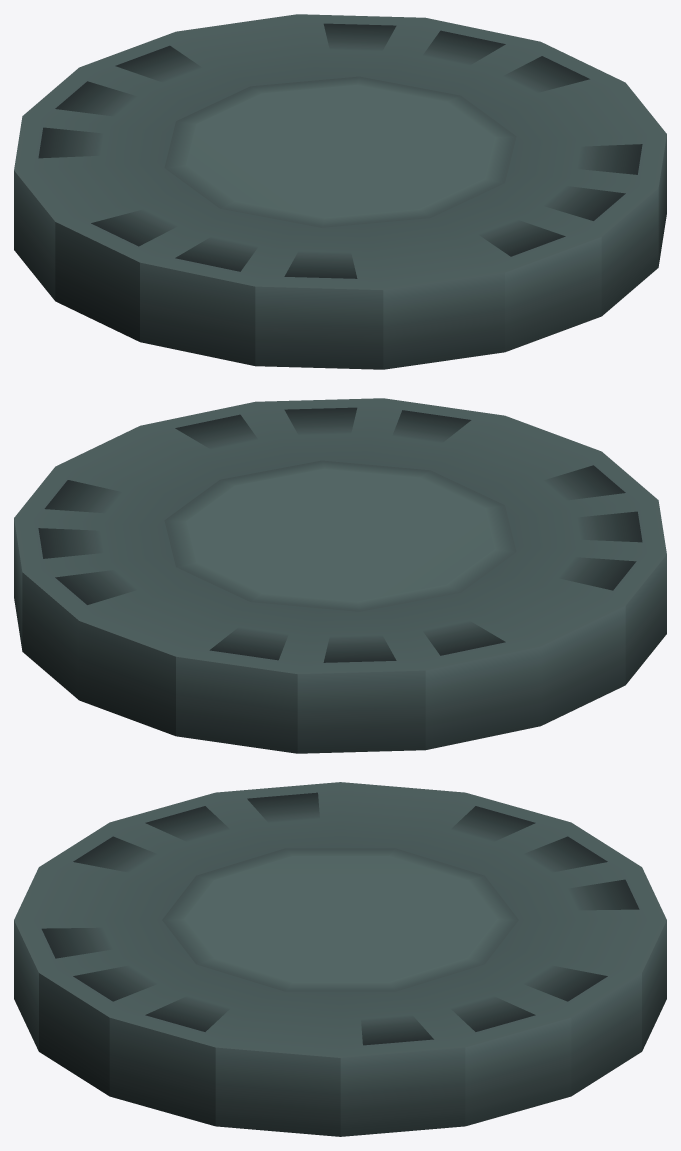
Rendered from Manhole_1B.fbx.
The picture shows the model from 3 angles, top to bottom: view 1: azimuth 30°, elevation 25°; view 2: azimuth 150°, elevation 25°; view 3: azimuth 270°, elevation 25°; orthographic projection.
Parts seen in each view (by area): view 1: Manhole_1B; view 2: Manhole_1B; view 3: Manhole_1B.
Boxes of the visible parts, box(x1,y1,x2,y2) form: Manhole_1B: box(14, 14, 666, 369); Manhole_1B: box(14, 398, 666, 753); Manhole_1B: box(14, 782, 666, 1136).
Bounding box in the file's own units: 150 × 20.25 × 150.
